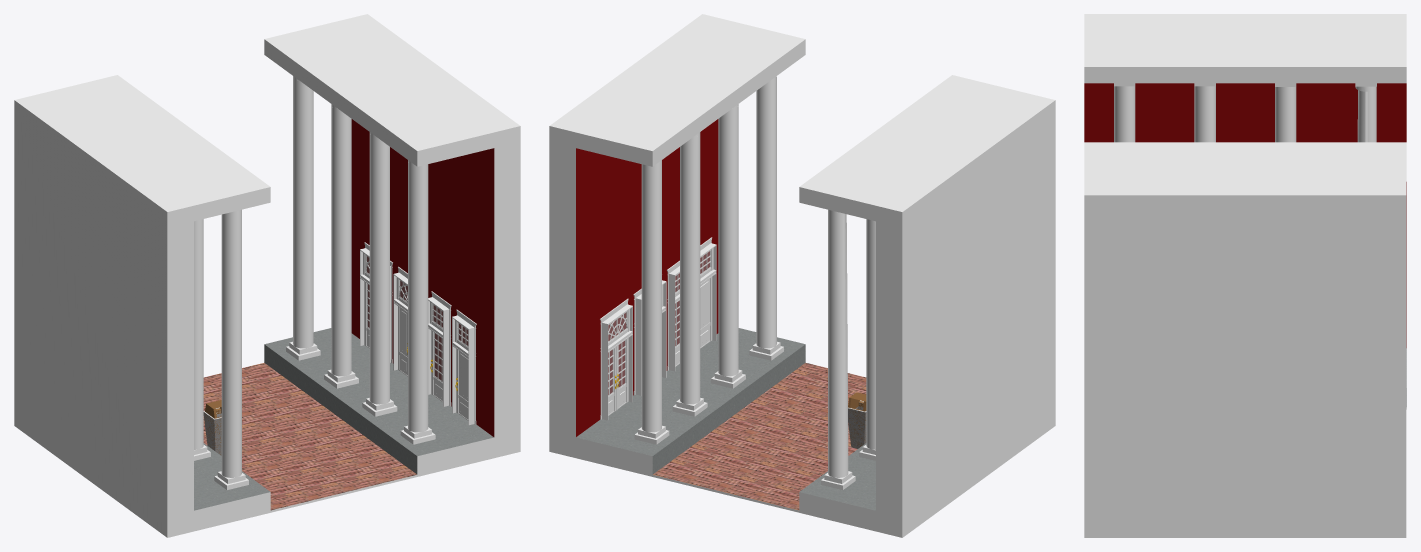
The model's file is CollegeRun_trashLeft.dae.
3 views of the same model, side by side, from view 1: azimuth 30°, elevation 25°; view 2: azimuth 150°, elevation 25°; view 3: azimuth 270°, elevation 25° (orthographic). The views are drawn at different scales.
Parts seen in each view (by area): view 1: SketchUp (×13), Componente_1 (×2), Componente_1_1, Componente_15; view 2: SketchUp (×12), Componente_1 (×2), Componente_15, Componente_1_1, Trash_Bin; view 3: SketchUp (×7).
Boxes of the visible parts, x1,y1,x2,y2 form: SketchUp (×13): (14,14,520,537); Componente_1 (×2): (360,242,451,406); Componente_1_1: (452,309,476,425); Componente_15: (393,266,407,370); SketchUp (×12): (549,14,1055,537); Componente_1 (×2): (600,260,679,420); Componente_15: (633,280,666,395); Componente_1_1: (700,237,716,340); Trash_Bin: (848,406,866,448); SketchUp (×7): (1084,14,1406,537).
Bounding box in the file's own units: 480 × 360 × 423.
Materials: 10 (3 with a texture image).
